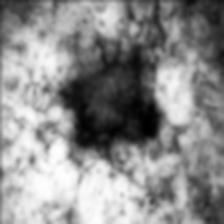Potentially Malignant Skin Tumors: (66, 54, 167, 168)
